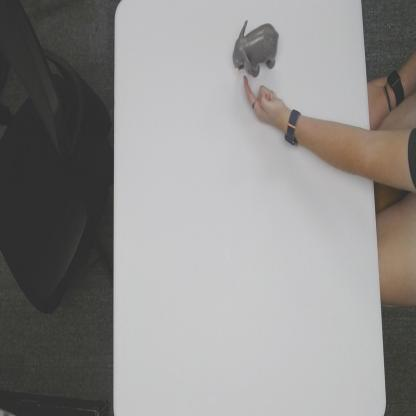Arm: (301, 112, 370, 182)
Elephant: (232, 18, 280, 79)
Hand: (242, 73, 286, 130)
